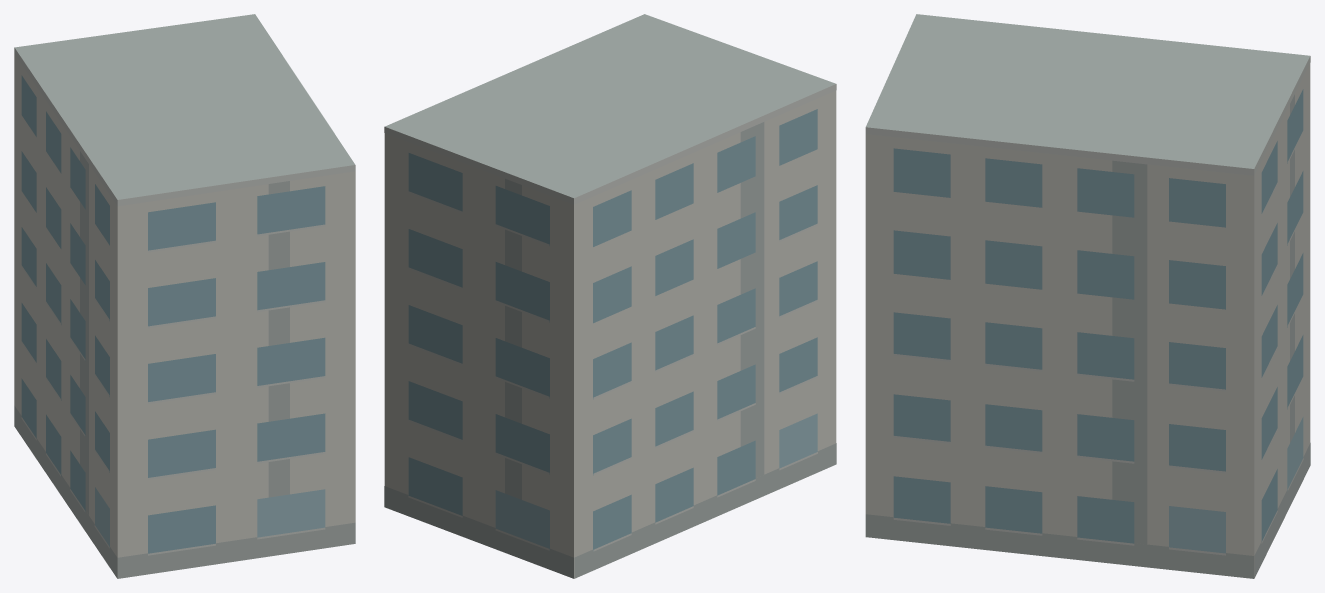
Rendered from survey-upis-32885879.glb.
3 renders of one model, left to right at view 1: azimuth 30°, elevation 25°; view 2: azimuth 150°, elevation 25°; view 3: azimuth 270°, elevation 25°, orthographic. The views are drawn at different scales.
Parts seen in each view (by area): view 1: survey-upis-32885879.tmp; view 2: survey-upis-32885879.tmp; view 3: survey-upis-32885879.tmp.
Part boxes in pixels (x1,y1,x2,y2): survey-upis-32885879.tmp: [14, 14, 355, 578]; survey-upis-32885879.tmp: [384, 14, 836, 578]; survey-upis-32885879.tmp: [865, 14, 1310, 578].
Bounding box in the file's own units: 11.77 × 14.5 × 14.27.
